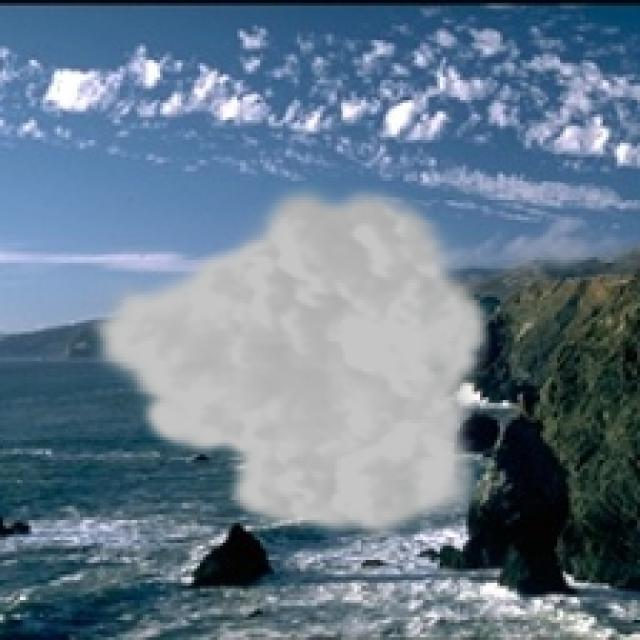smoke: (83, 177, 494, 543)
